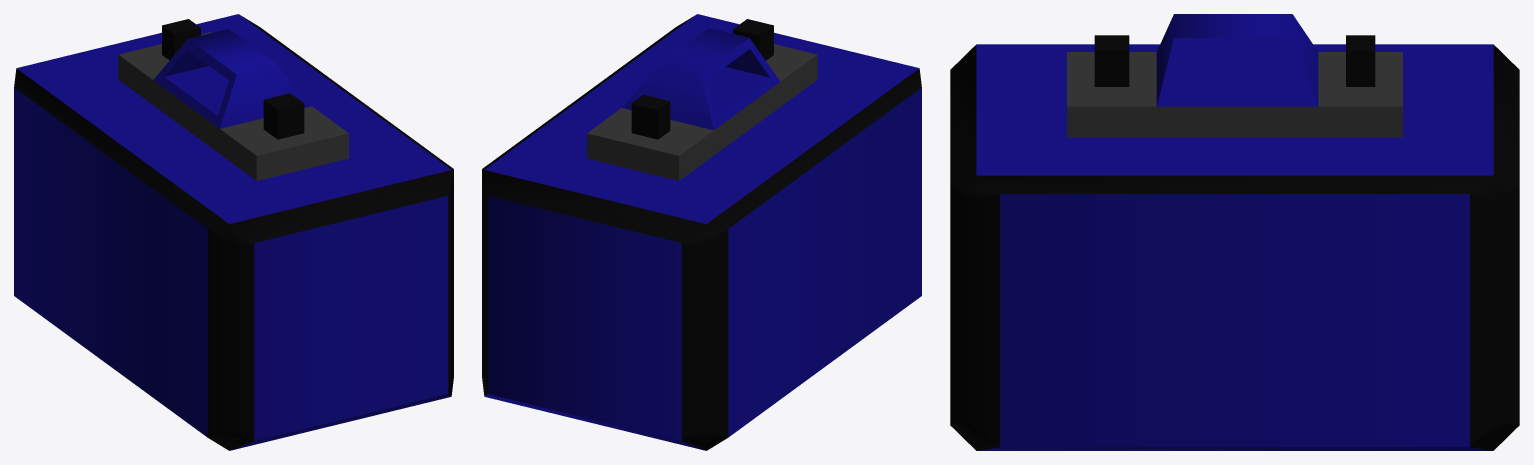
File: BateriaCarro.fbx
3 renders of one model, left to right at view 1: azimuth 30°, elevation 25°; view 2: azimuth 150°, elevation 25°; view 3: azimuth 270°, elevation 25°, orthographic. The views are drawn at different scales.
Parts seen in each view (by area): view 1: Box094; view 2: Box094; view 3: Box094.
Part boxes in pixels (left/top/right/bottom): Box094: left=14, top=14, right=453, bottom=450; Box094: left=482, top=14, right=921, bottom=450; Box094: left=950, top=14, right=1519, bottom=450.
Size of the model in its own units: 30.28 by 34.68 by 50.
